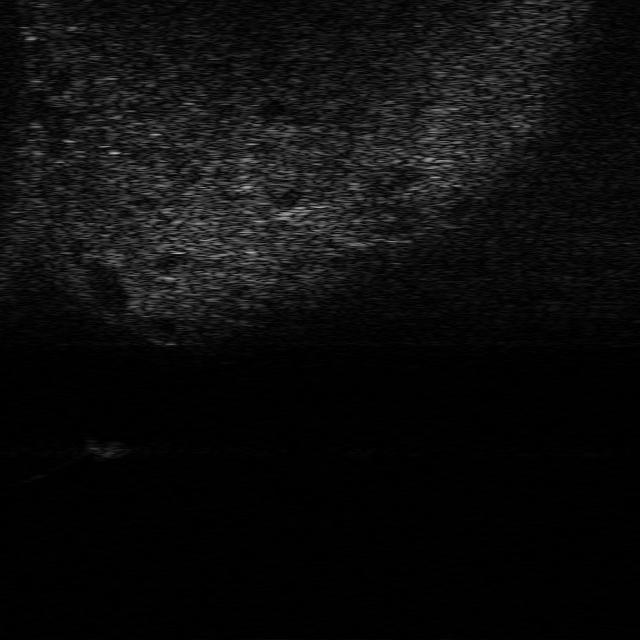cube: (80, 433, 129, 460)
